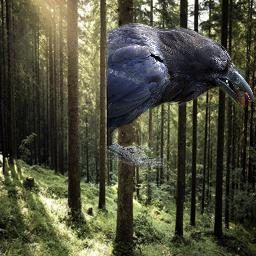Crow: (107, 22, 255, 168)
